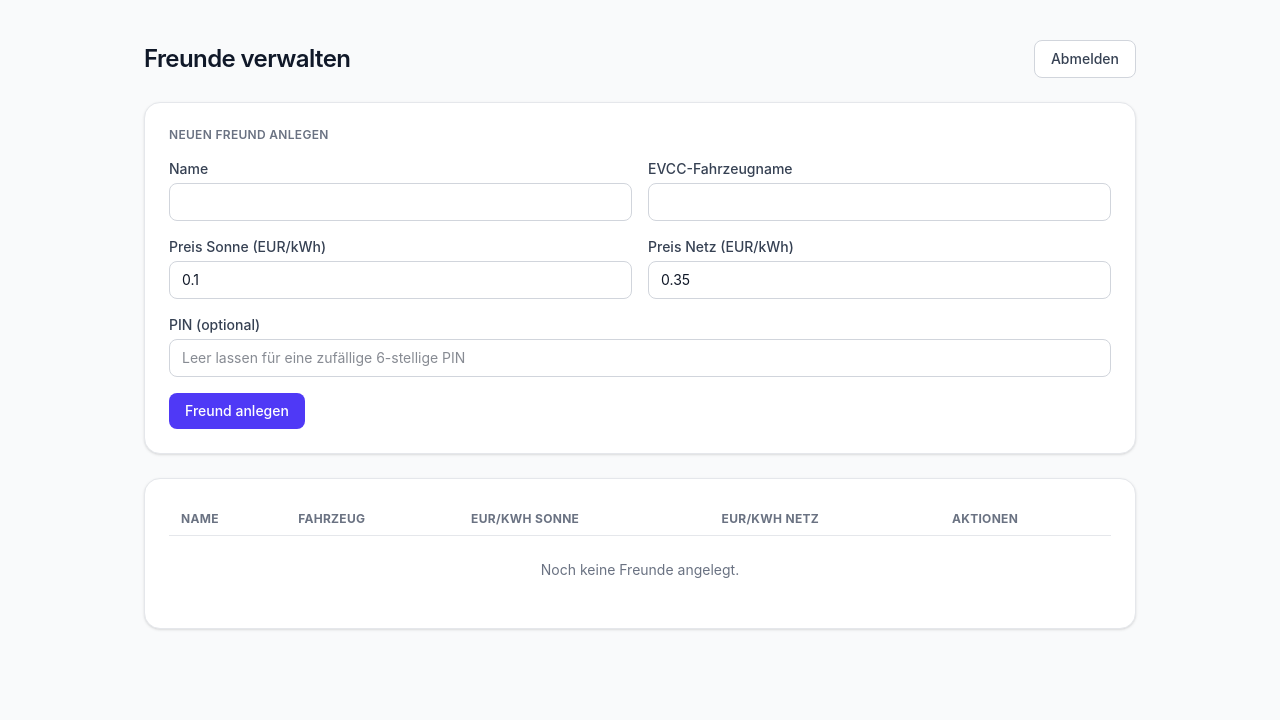
Test: AdminPage › reloads the friend list after creating a friend
The image size is (1280, 720).
Step 1. Type "Bea" into the field with id "name" → (400, 202), box [169, 183, 632, 221]
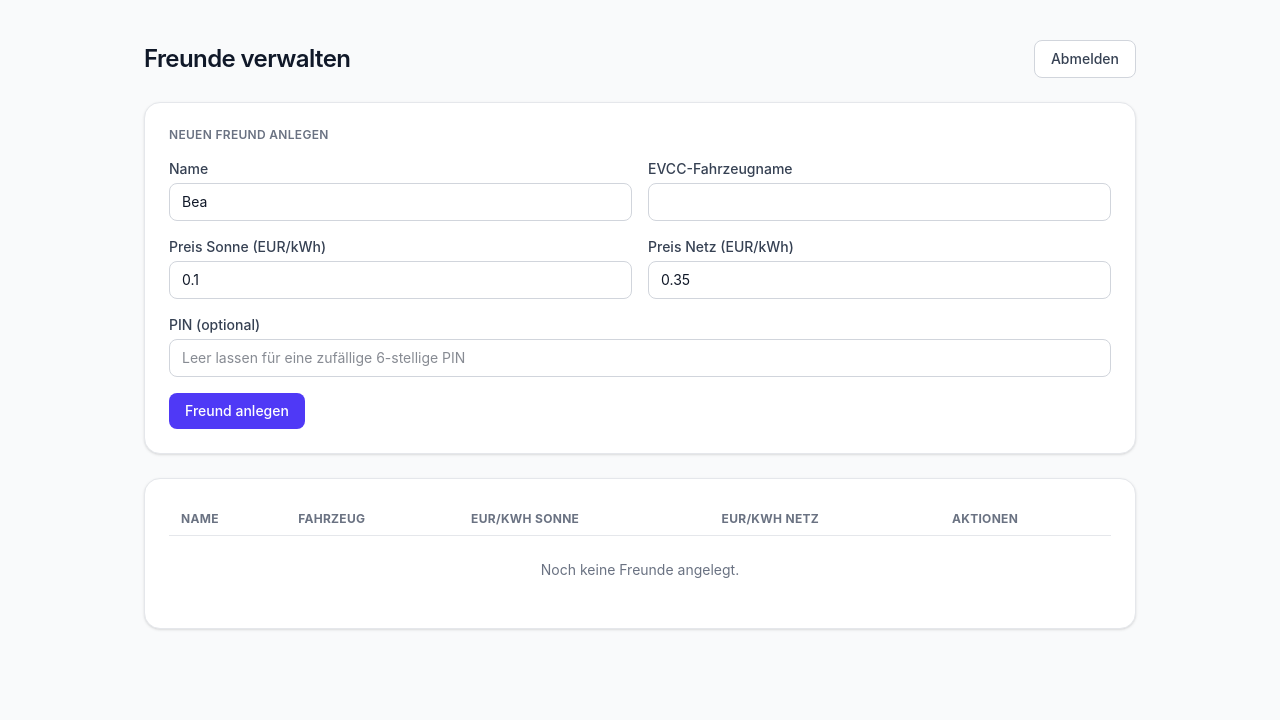
Step 2. Type "vehicle_2" into the field labelled "EVCC-Fahrzeugname" → (880, 202), box [648, 183, 1111, 221]
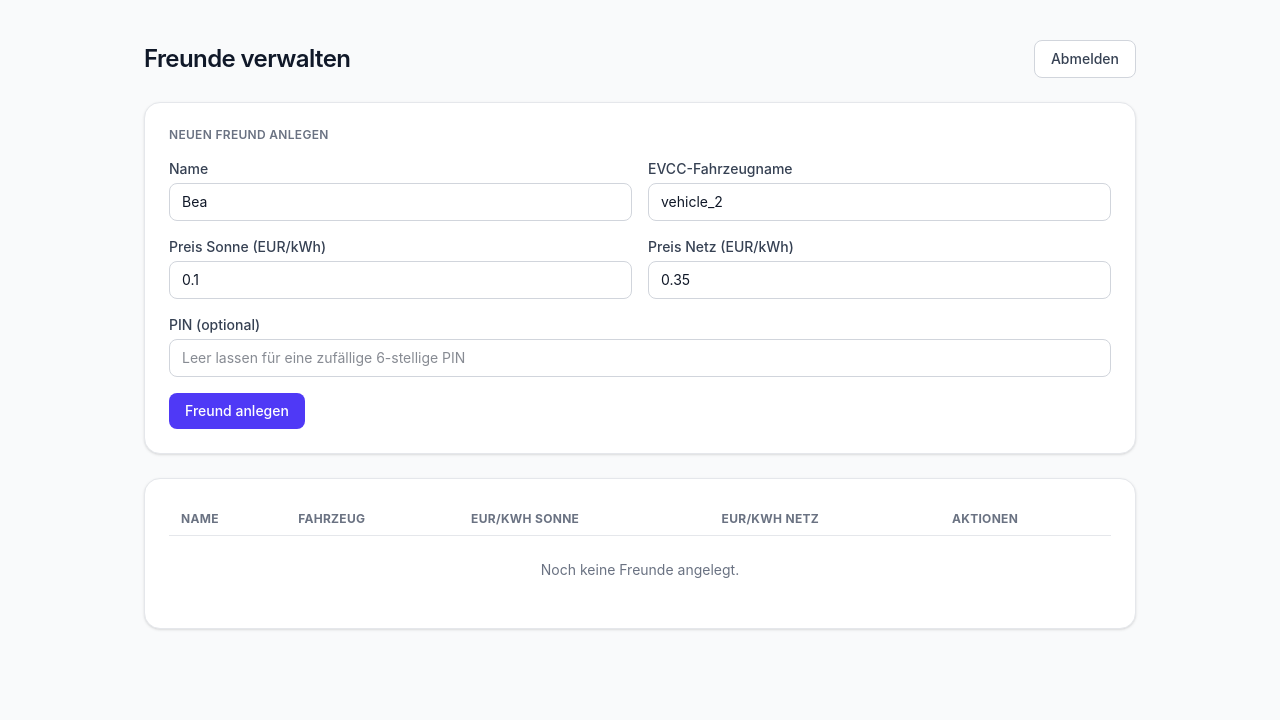
Step 3. Submit the form, box [169, 159, 1111, 429]
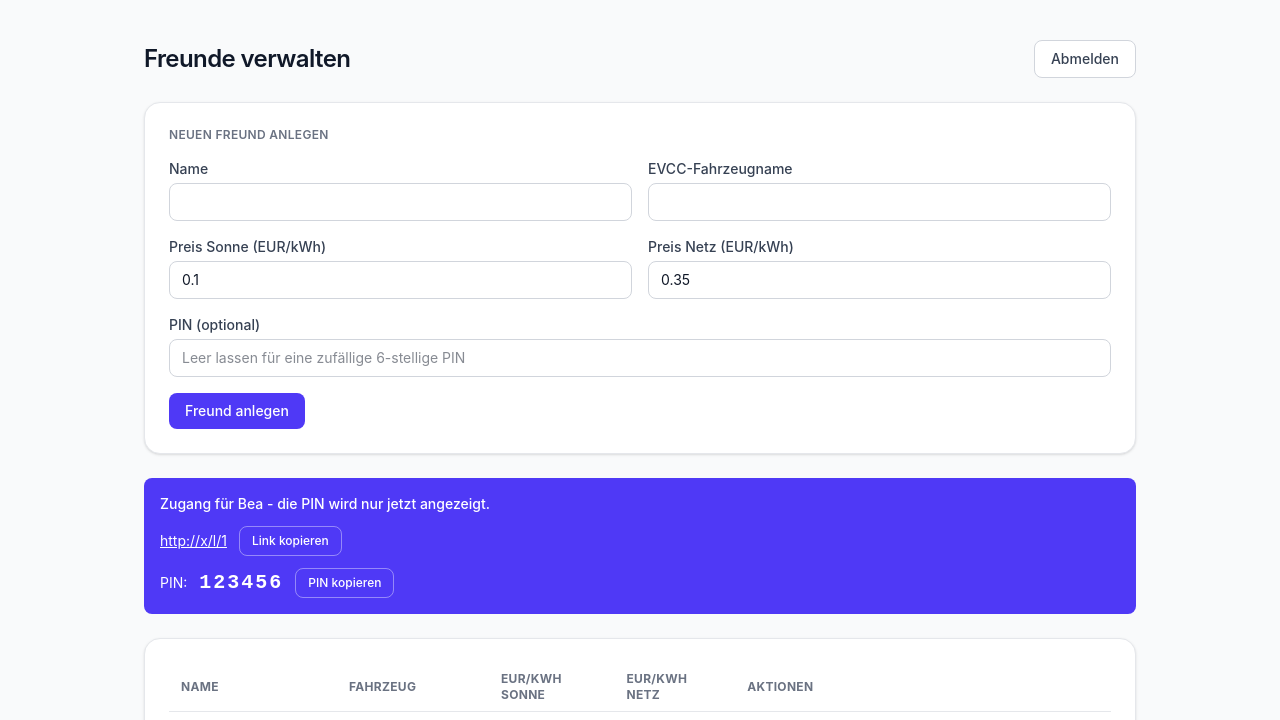
expect the text "Bea" is shown: met, box [160, 495, 490, 512]
expect the text "http://x/l/1" is shown: met, box [160, 531, 227, 551]
